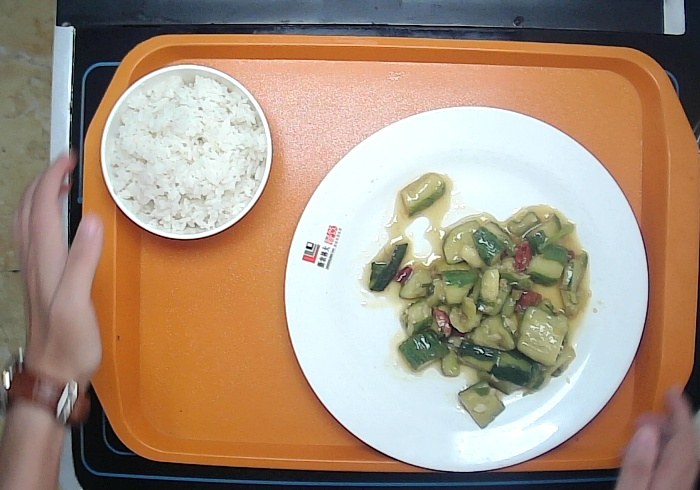ZNLD-Da_Yuan_Pan: (279, 104, 652, 476)
